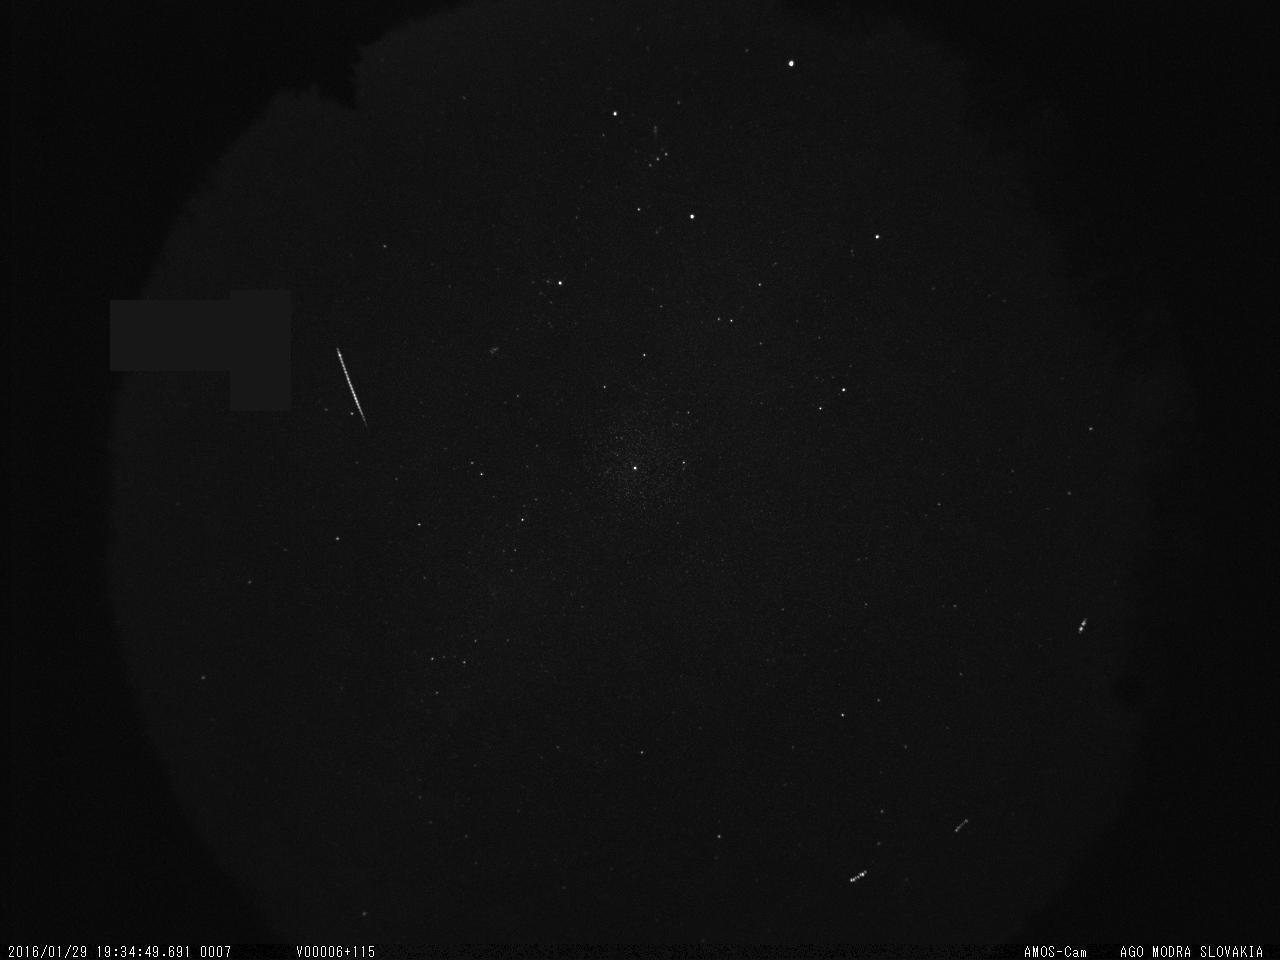meteor: (329, 338, 376, 430)
